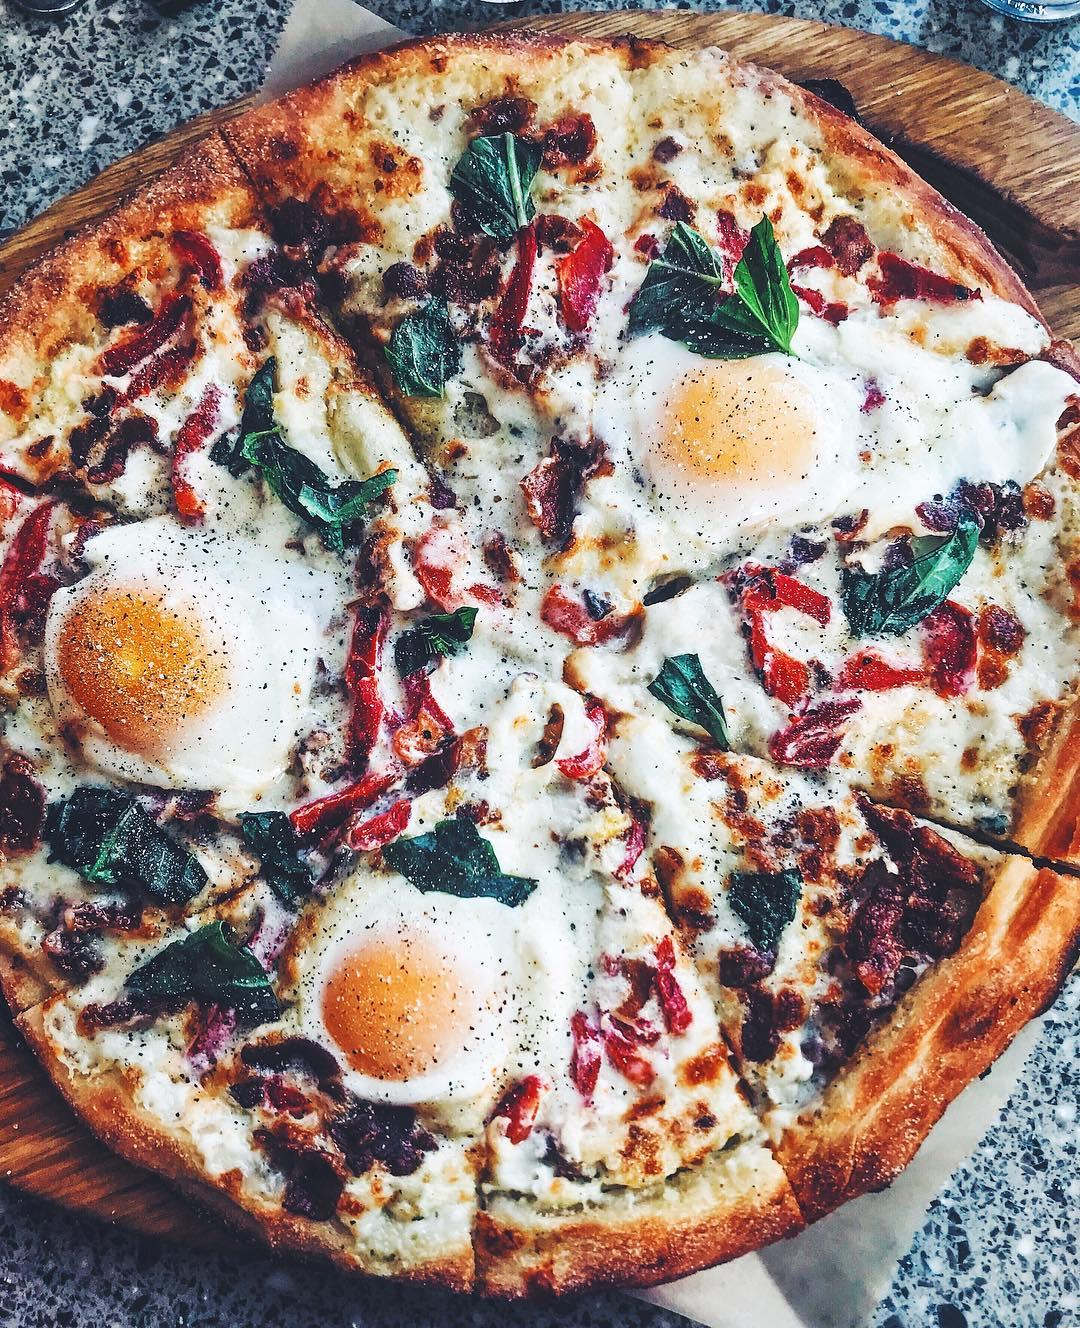Basil: (220, 355, 401, 566), (36, 778, 217, 909), (120, 914, 313, 1025), (832, 506, 985, 641), (371, 807, 542, 916), (435, 123, 548, 252), (619, 215, 726, 350), (730, 209, 811, 365), (234, 803, 338, 918), (641, 647, 736, 759), (380, 283, 466, 401), (666, 285, 790, 366), (724, 860, 809, 976), (392, 598, 486, 681)
Peppers: (725, 555, 833, 708), (411, 525, 526, 611), (87, 284, 193, 377), (862, 246, 990, 317), (594, 952, 661, 1086), (171, 377, 228, 530), (485, 224, 539, 380), (289, 769, 403, 836), (109, 328, 206, 407), (917, 593, 983, 704), (536, 586, 648, 650), (558, 215, 614, 343), (134, 224, 230, 295), (386, 672, 458, 762), (332, 592, 391, 693), (833, 641, 931, 702), (649, 930, 699, 1048), (337, 676, 389, 785), (343, 795, 421, 854), (778, 240, 840, 313), (516, 447, 565, 537), (560, 1006, 604, 1105), (710, 197, 756, 290), (560, 702, 608, 786), (615, 809, 658, 886), (503, 1070, 544, 1148)
Pizza: (0, 18, 1080, 1296)
